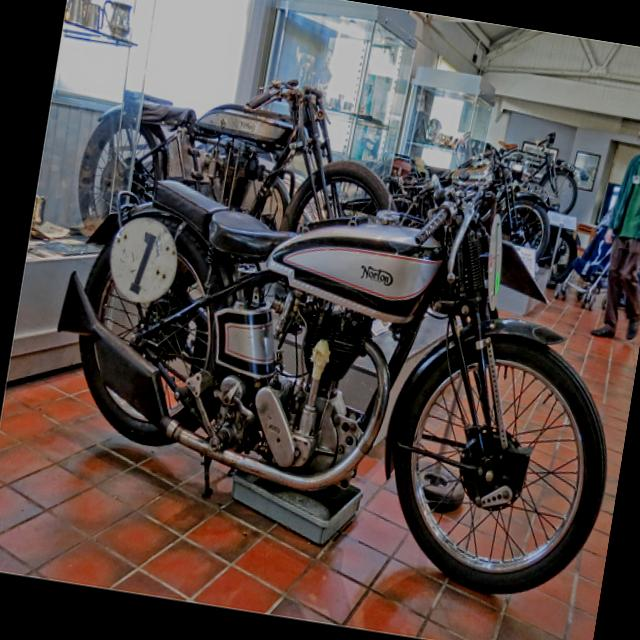Vehicle: (28, 75, 640, 596), (67, 49, 414, 282), (503, 126, 588, 216), (495, 189, 555, 267)
